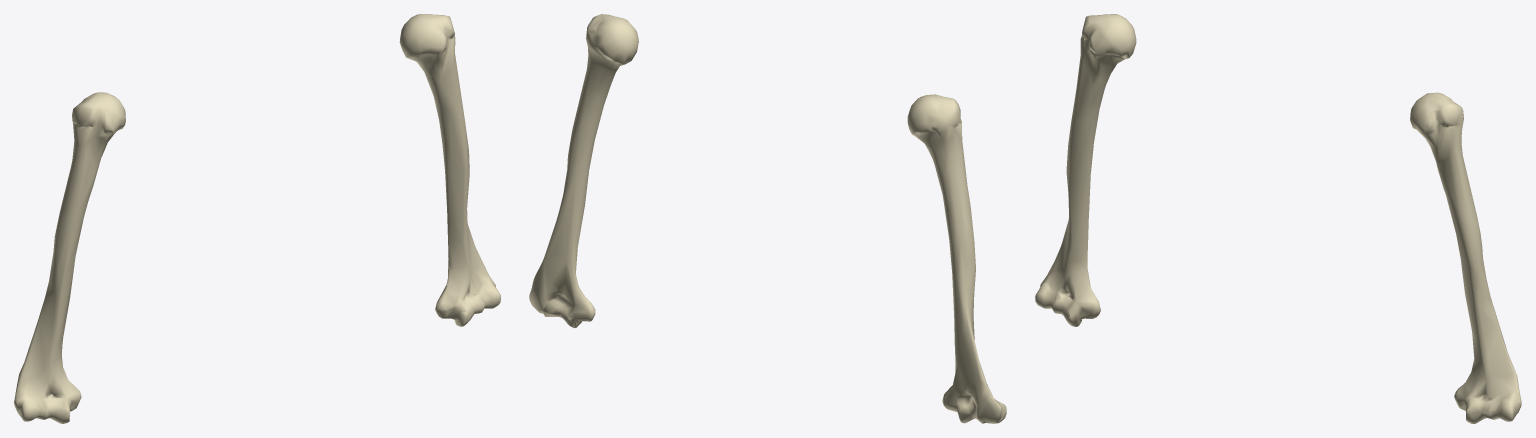
Rendered from humerus.glb.
3 views of the same model, side by side, from view 1: azimuth 30°, elevation 25°; view 2: azimuth 150°, elevation 25°; view 3: azimuth 330°, elevation 25° (orthographic).
Parts seen in each view (by area): view 1: Humerus; view 2: Humerus; view 3: Humerus.
Boxes of the visible parts, left/top/right/bottom form: Humerus: left=14, top=14, right=500, bottom=423; Humerus: left=529, top=14, right=1006, bottom=423; Humerus: left=1035, top=14, right=1521, bottom=423.
Size of the model in its own units: 0.4815 by 0.3072 by 0.0492.
